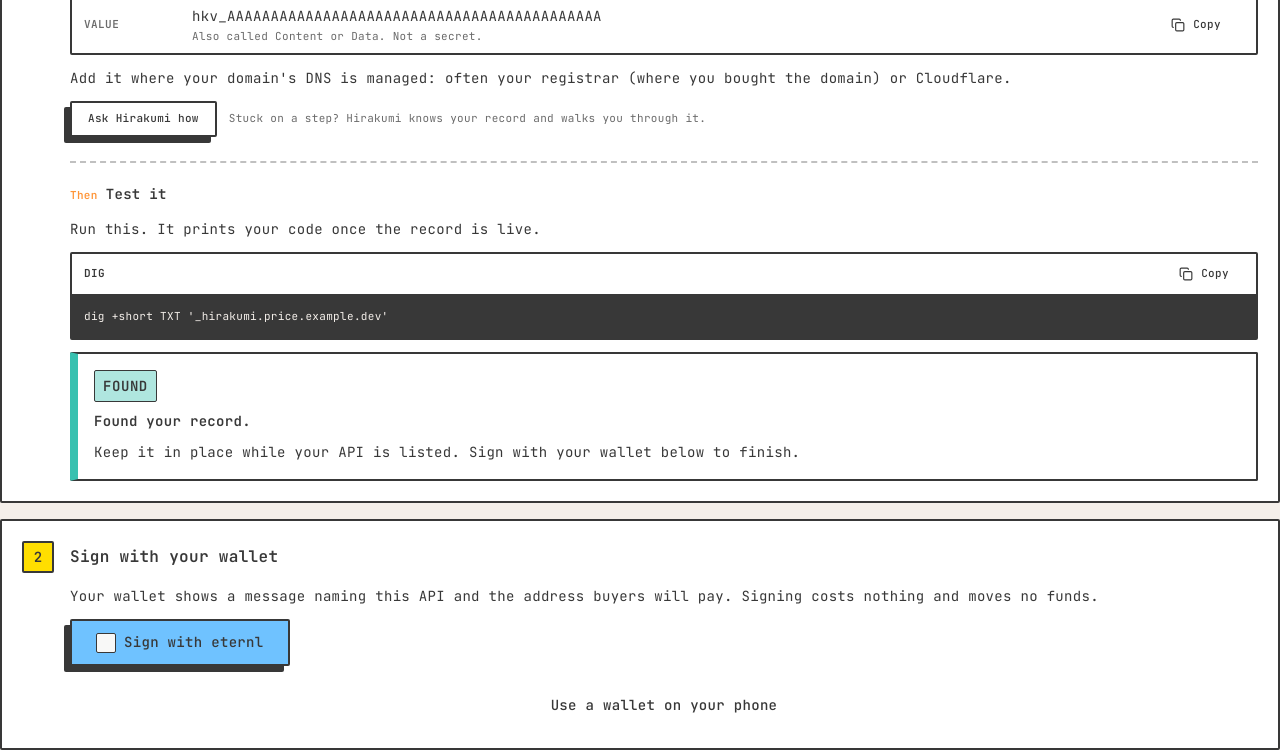
Test: OwnershipPanel: check now and signing › an expired pass whose record is gone sends the seller back to step 1, not a dead end
This screenshot has width=1280, height=750.
(page scrolled)
Check: the text "Found your record." is shown, box top-left (94, 412), bottom-right (251, 430)
Click the button "Sign with eternl" at (180, 642), box top-left (70, 619), bottom-right (290, 666)
(page scrolled)
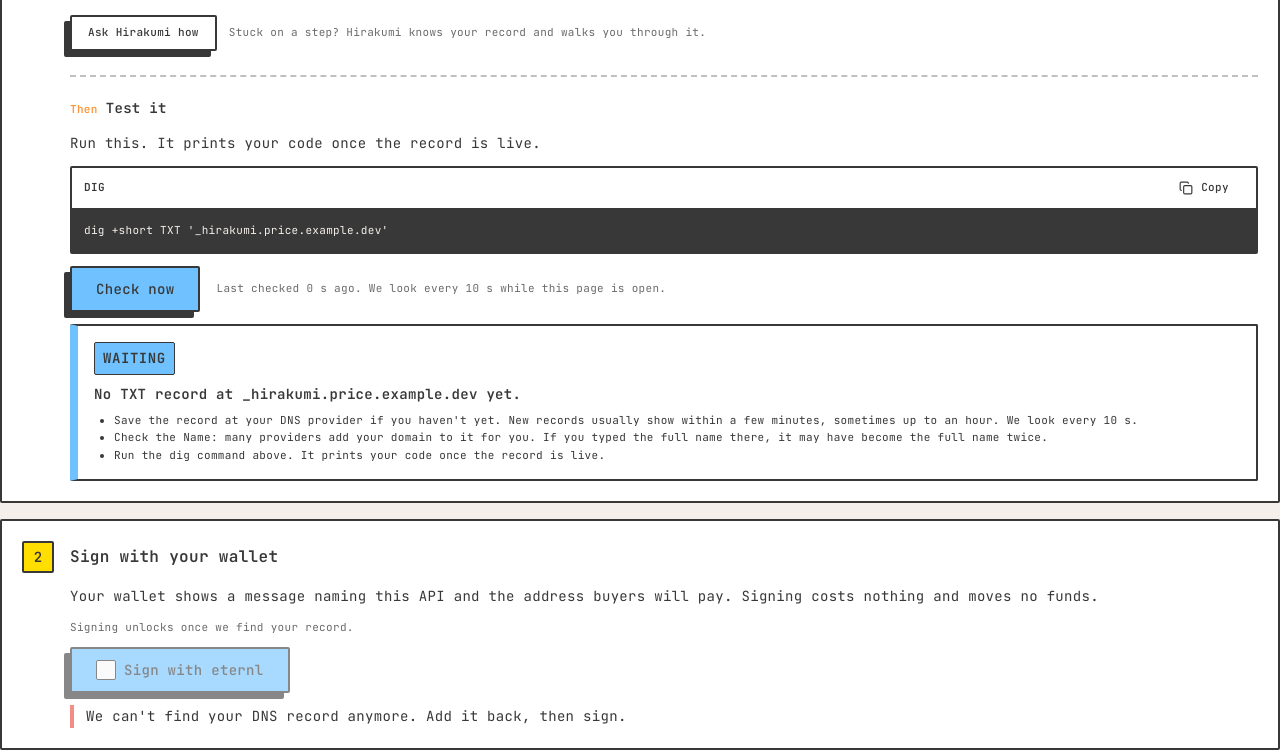
Check: the text "We can't find your DNS record anymore. Add it back, then sign." is shown, box top-left (70, 705), bottom-right (1258, 728)
Check: the button "Sign with eternl" is disabled, box top-left (70, 647), bottom-right (290, 693)
